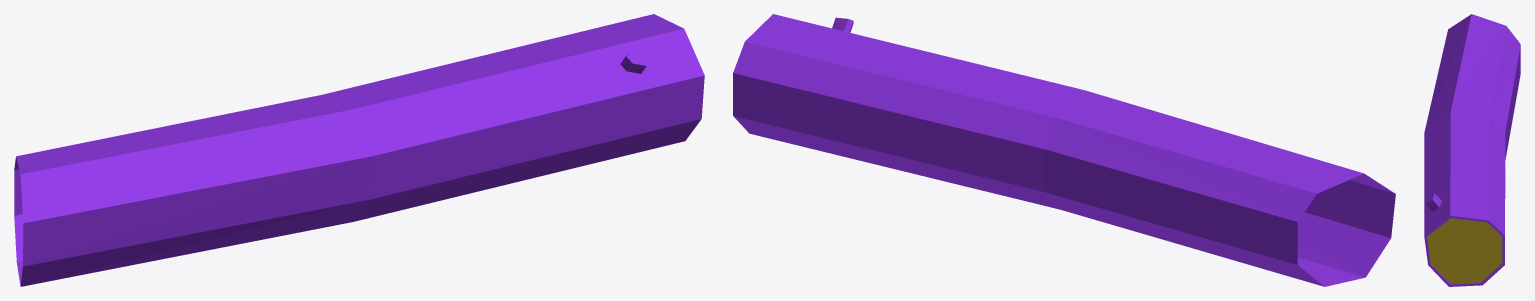
The model's file is log.fbx.
3 views of the same model, side by side, from view 1: azimuth 30°, elevation 25°; view 2: azimuth 150°, elevation 25°; view 3: azimuth 270°, elevation 25° (orthographic). The views are drawn at different scales.
Parts seen in each view (by area): view 1: Cube; view 2: Cube; view 3: Cube.
Part boxes in pixels (bbox=[...]): Cube: bbox=[14, 14, 704, 286]; Cube: bbox=[733, 14, 1395, 286]; Cube: bbox=[1424, 14, 1520, 286].
Size of the model in its own units: 1270 by 209 by 251.
